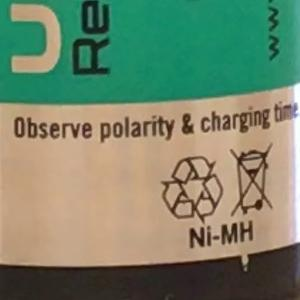NI-MH: (179, 210, 263, 259)
